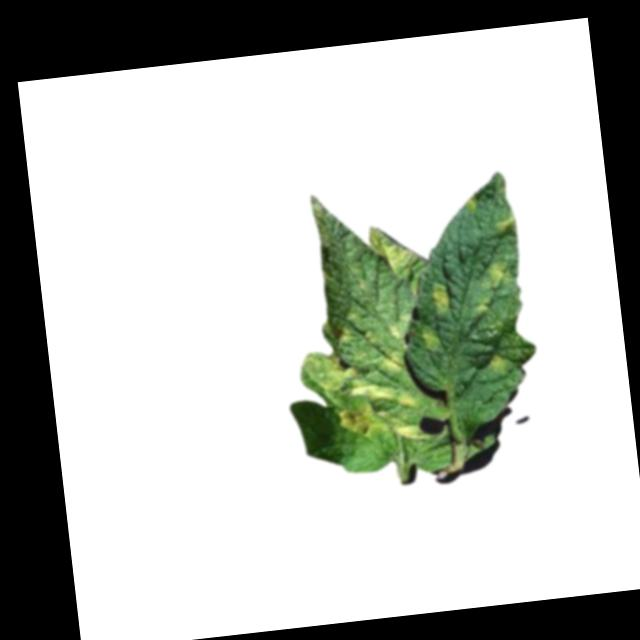Leaf_Mold: (309, 334, 370, 404), (363, 224, 419, 271), (337, 398, 384, 442), (428, 279, 457, 317), (419, 325, 445, 357), (486, 261, 511, 290), (395, 419, 424, 443), (485, 347, 510, 372), (384, 351, 406, 374)
